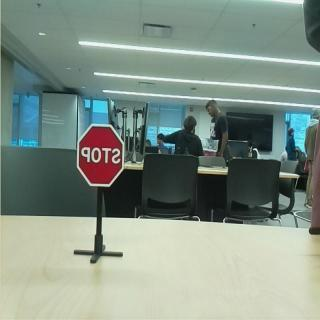sign_stop: (76, 123, 127, 189)
